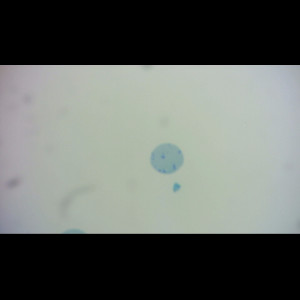aggregate reticulocyte: (149, 142, 185, 173)
